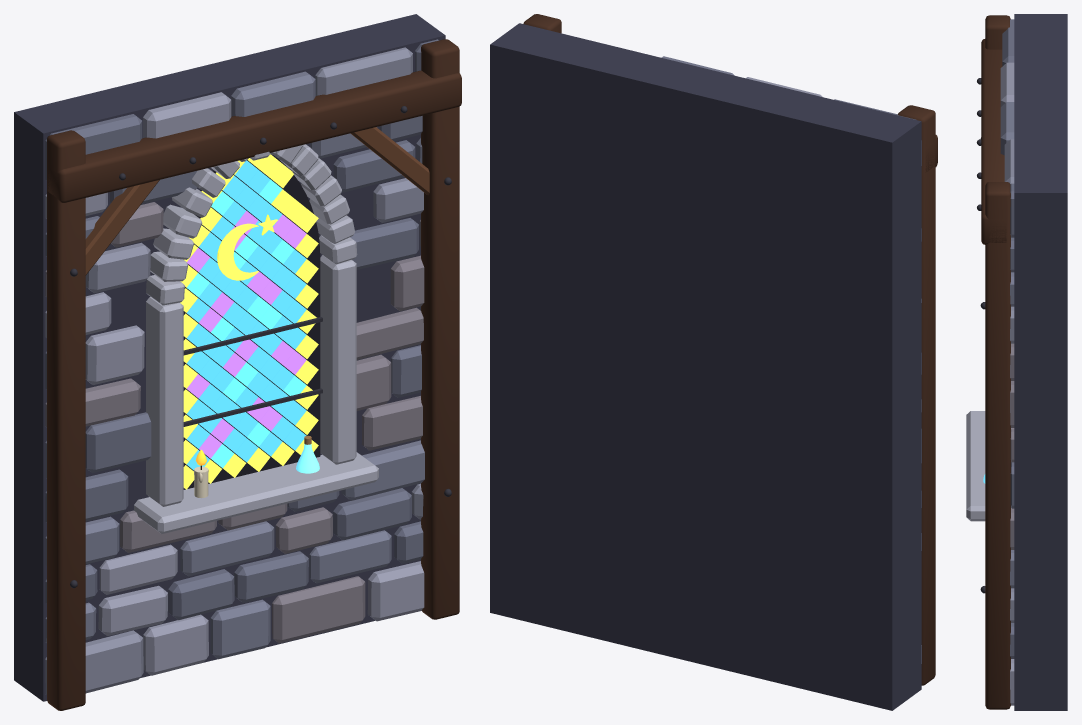
The model's file is magic_wall_window.glb.
3 renders of one model, left to right at view 1: azimuth 30°, elevation 25°; view 2: azimuth 150°, elevation 25°; view 3: azimuth 270°, elevation 25°, orthographic. The views are drawn at different scales.
Parts seen in each view (by area): view 1: magic_wall_window; view 2: magic_wall_window; view 3: magic_wall_window.
Boxes of the visible parts, <box> form: magic_wall_window: <box>14,14,461,710</box>; magic_wall_window: <box>490,14,937,710</box>; magic_wall_window: <box>966,14,1067,710</box>.
Size of the model in its own units: 2 by 2.7 by 0.478.
